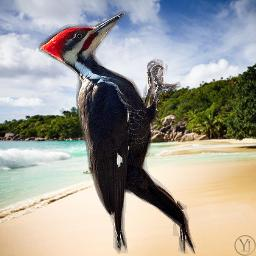Woodpecker: (38, 11, 196, 254)
